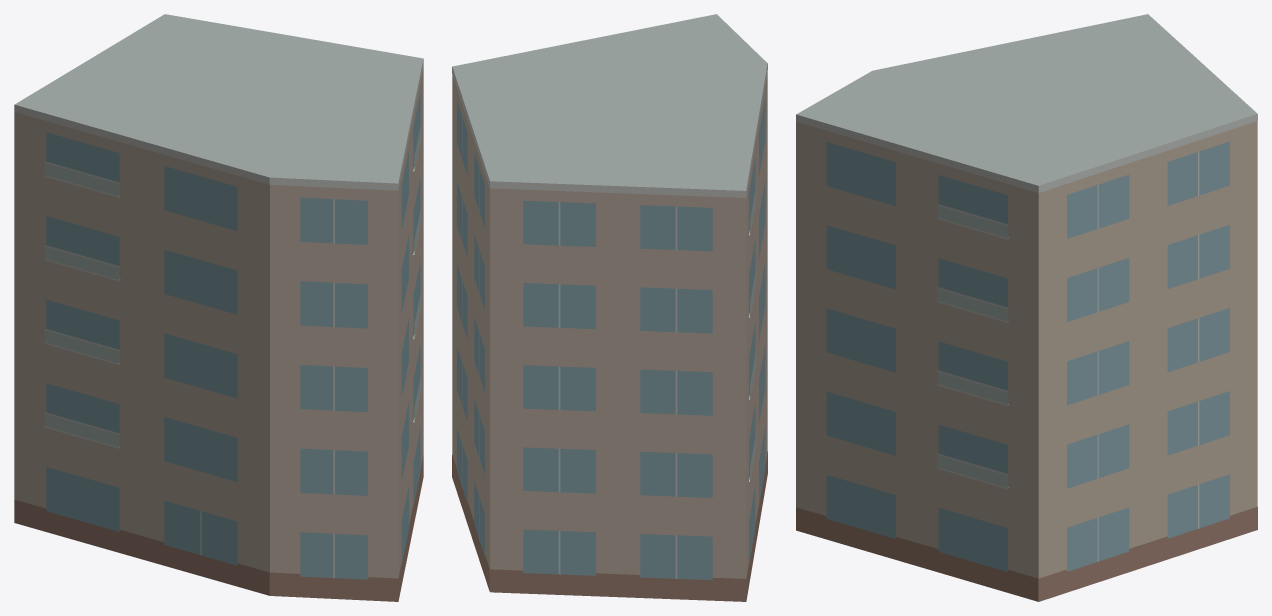
The model's file is survey-upis-33042181.glb.
The picture shows the model from 3 angles, left to right: view 1: azimuth 30°, elevation 25°; view 2: azimuth 150°, elevation 25°; view 3: azimuth 270°, elevation 25°; orthographic projection.
Parts seen in each view (by area): view 1: survey-upis-33042181.tmp; view 2: survey-upis-33042181.tmp; view 3: survey-upis-33042181.tmp.
Boxes of the visible parts, x1=… form: survey-upis-33042181.tmp: x1=14, y1=14, x2=423, y2=601; survey-upis-33042181.tmp: x1=452, y1=14, x2=767, y2=601; survey-upis-33042181.tmp: x1=796, y1=14, x2=1257, y2=601.
Bounding box in the file's own units: 12.59 × 14.2 × 14.29.
